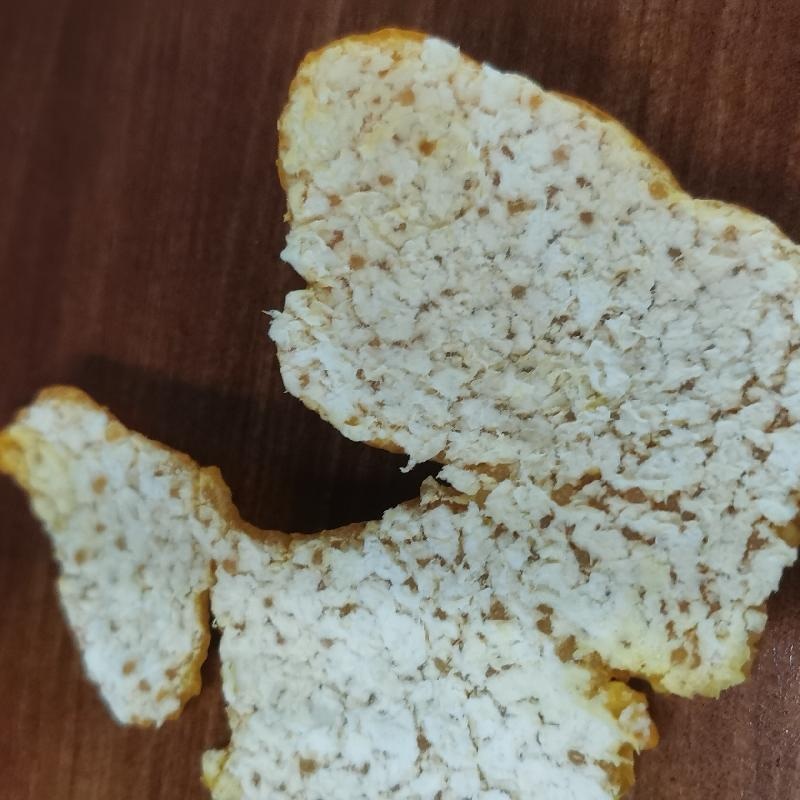orange: (4, 21, 799, 800)
